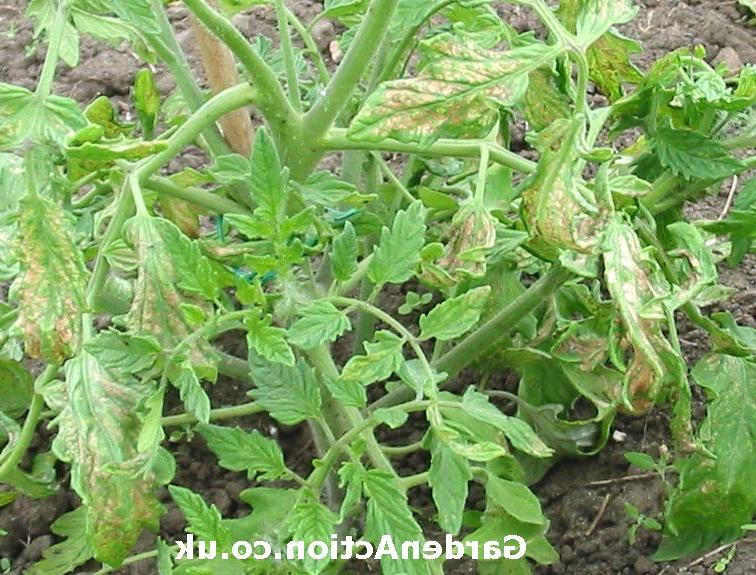Tomato leaf mosaic virus: (245, 331, 321, 427), (154, 218, 229, 311), (463, 379, 549, 460), (653, 115, 741, 187), (196, 424, 292, 486), (365, 199, 427, 285), (426, 425, 470, 530), (419, 283, 490, 344), (248, 118, 285, 235), (170, 481, 233, 545), (342, 334, 405, 393), (86, 328, 172, 370), (287, 302, 348, 352)
